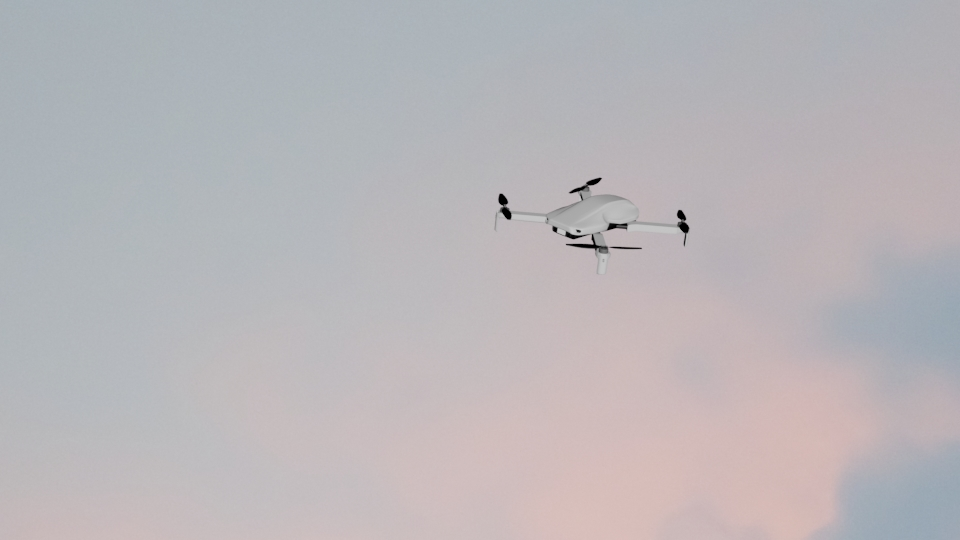drone: (489, 176, 693, 272)
